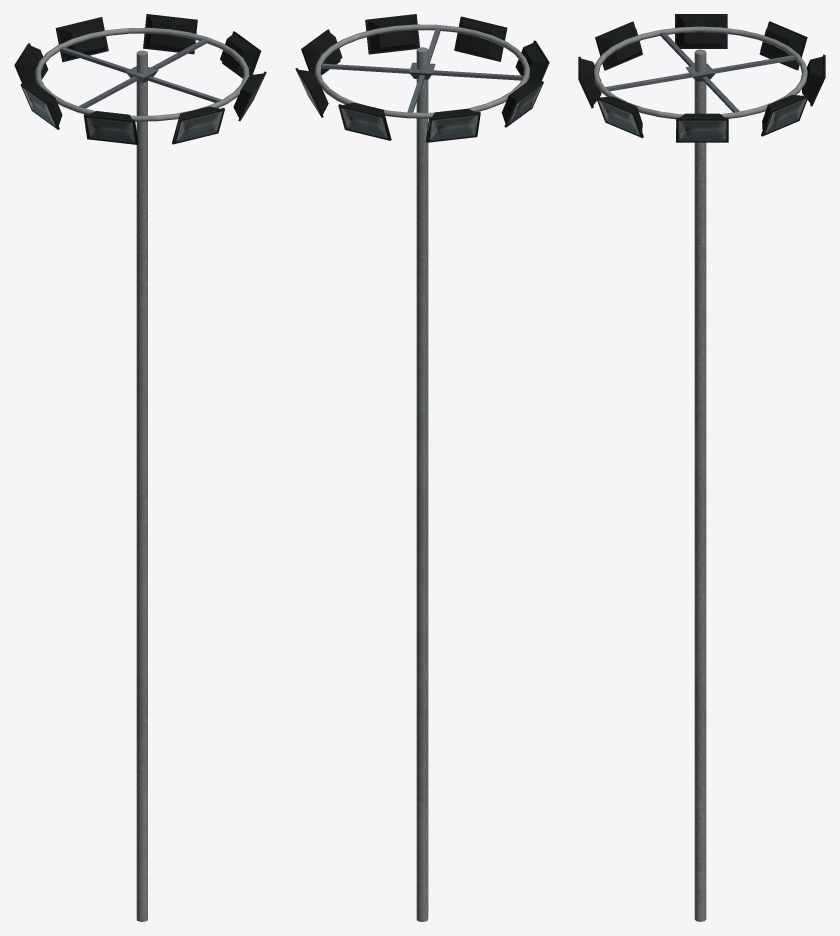
File: Light-05.fbx
The picture shows the model from 3 angles, left to right: view 1: azimuth 30°, elevation 25°; view 2: azimuth 150°, elevation 25°; view 3: azimuth 270°, elevation 25°; orthographic projection.
Parts seen in each view (by area): view 1: Light-02; view 2: Light-02; view 3: Light-02.
Boxes of the visible parts, x1,y1,x2,y2 form: Light-02: (14, 14, 266, 921); Light-02: (295, 14, 549, 921); Light-02: (578, 14, 825, 921).
Size of the model in its own units: 381 by 1464 by 378.
